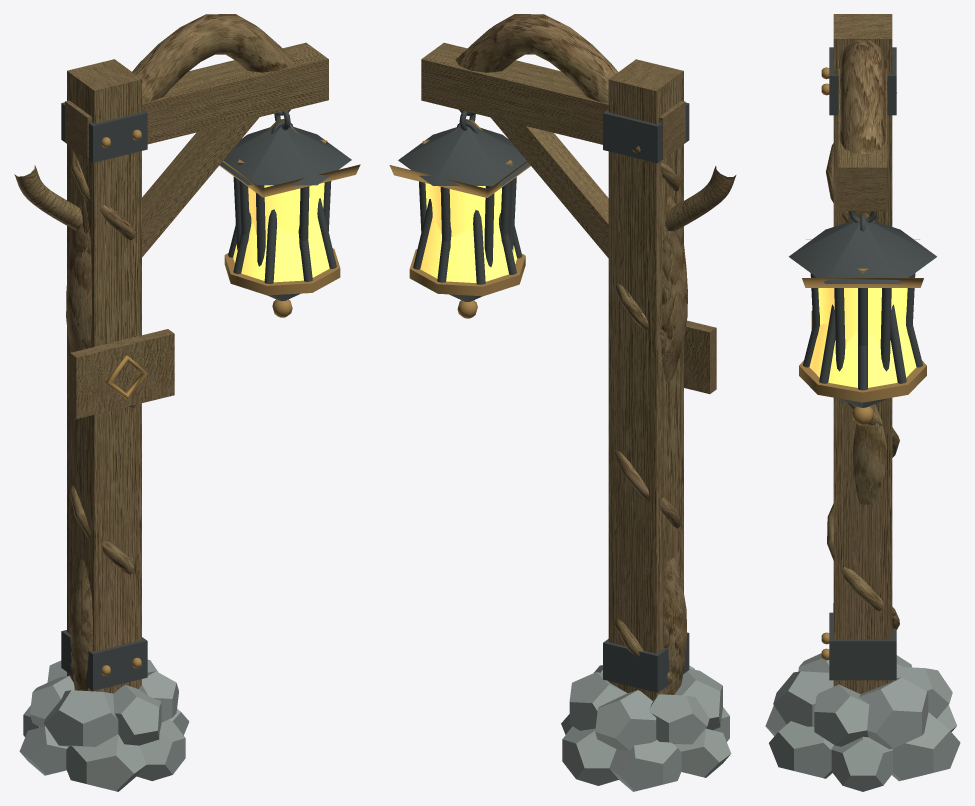
File: lantern.glb
3 views of the same model, side by side, from view 1: azimuth 30°, elevation 25°; view 2: azimuth 150°, elevation 25°; view 3: azimuth 270°, elevation 25° (orthographic). The views are drawn at different scales.
Parts seen in each view (by area): view 1: Lantern Weathered oak, LanternWoodland Weathered oak, Lantern Foundation stone, LanternRoadside Weathered oak, LanternRoadside Forged dark iron, Lantern Forged dark iron, Lantern Amber lantern glass, Lantern Aged brass fittings, LanternRoadside Amber lantern glass, LanternWoodland Aged brass fittings, LanternWoodland Forged dark iron, LanternRoadside Aged brass fittings; view 2: Lantern Weathered oak, LanternRoadside Weathered oak, LanternWoodland Weathered oak, Lantern Foundation stone, LanternRoadside Forged dark iron, Lantern Forged dark iron, Lantern Amber lantern glass, LanternRoadside Amber lantern glass, Lantern Aged brass fittings, LanternWoodland Aged brass fittings, LanternWoodland Forged dark iron; view 3: Lantern Foundation stone, Lantern Weathered oak, LanternRoadside Forged dark iron, LanternWoodland Weathered oak, Lantern Forged dark iron, Lantern Amber lantern glass, Lantern Aged brass fittings, LanternRoadside Amber lantern glass, LanternWoodland Aged brass fittings, LanternWoodland Forged dark iron, LanternRoadside Weathered oak.
Part boxes in pixels (x1,y1,x2,y2): Lantern Weathered oak: (66, 43, 328, 693); LanternWoodland Weathered oak: (14, 14, 294, 691); Lantern Foundation stone: (19, 659, 189, 791); LanternRoadside Weathered oak: (65, 43, 309, 418); LanternRoadside Forged dark iron: (61, 104, 351, 690); Lantern Forged dark iron: (61, 102, 336, 669); Lantern Amber lantern glass: (233, 217, 329, 282); Lantern Aged brass fittings: (101, 130, 340, 675); LanternRoadside Amber lantern glass: (252, 182, 324, 239); LanternWoodland Aged brass fittings: (219, 119, 360, 317); LanternWoodland Forged dark iron: (239, 109, 302, 250); LanternRoadside Aged brass fittings: (102, 129, 290, 675); Lantern Weathered oak: (421, 43, 685, 700); LanternRoadside Weathered oak: (421, 43, 716, 393); LanternWoodland Weathered oak: (455, 14, 736, 694); Lantern Foundation stone: (561, 665, 731, 791); LanternRoadside Forged dark iron: (398, 103, 687, 692); Lantern Forged dark iron: (413, 102, 689, 692); Lantern Amber lantern glass: (420, 218, 516, 282); LanternRoadside Amber lantern glass: (425, 183, 497, 240); Lantern Aged brass fittings: (409, 249, 525, 316); LanternWoodland Aged brass fittings: (389, 119, 530, 318); LanternWoodland Forged dark iron: (447, 111, 510, 250); Lantern Foundation stone: (765, 653, 960, 791); Lantern Weathered oak: (833, 14, 892, 693); LanternRoadside Forged dark iron: (789, 47, 936, 679); LanternWoodland Weathered oak: (826, 40, 899, 629); Lantern Forged dark iron: (803, 47, 922, 680); Lantern Amber lantern glass: (809, 323, 916, 387); Lantern Aged brass fittings: (799, 67, 926, 659); LanternRoadside Amber lantern glass: (818, 288, 907, 345); LanternWoodland Aged brass fittings: (802, 213, 923, 425); LanternWoodland Forged dark iron: (849, 211, 877, 345); LanternRoadside Weathered oak: (838, 16, 887, 221).
Size of the model in its own units: 2.27 by 4.93 by 1.13.
Materials: 5 (1 with a texture image).
